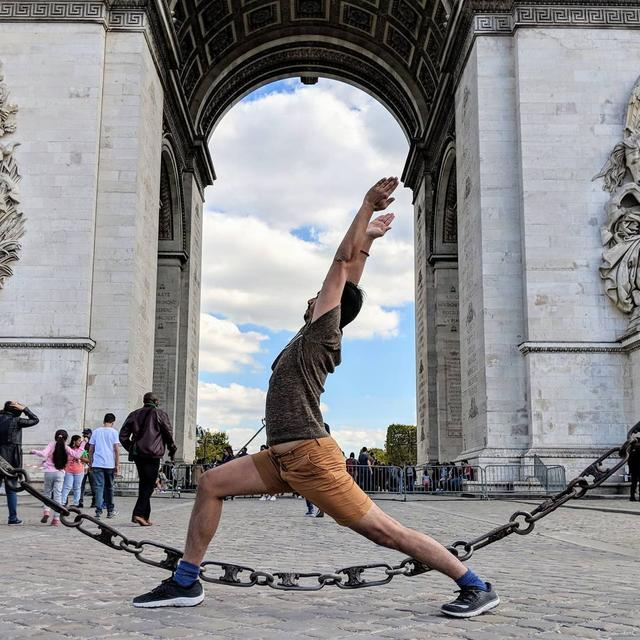Warrior_I: (136, 163, 503, 618)
